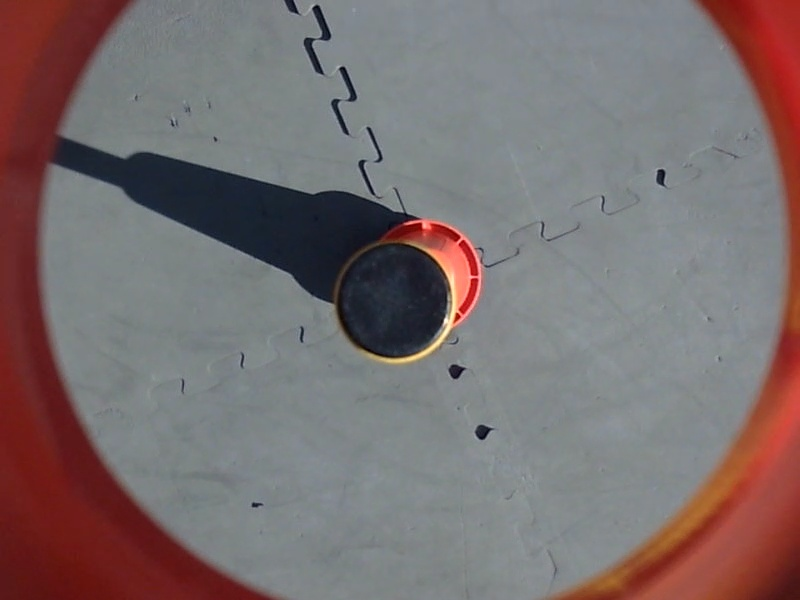tip: (327, 240, 455, 365)
